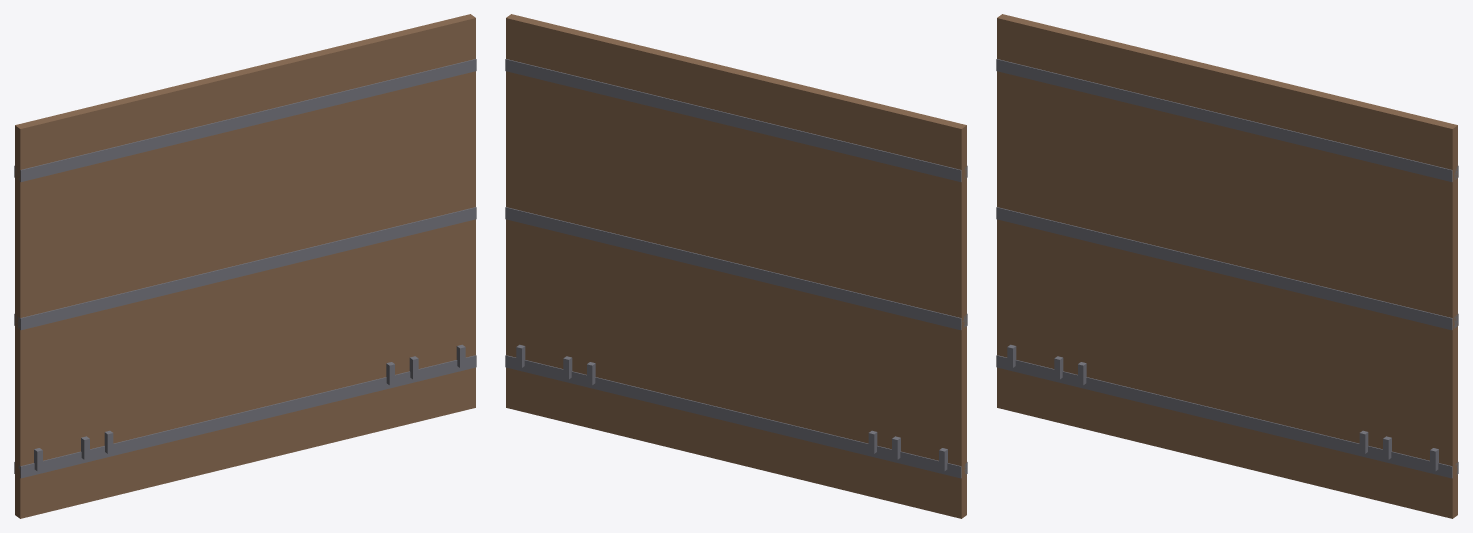
The model's file is HauntedBakery_Doors.fbx.
3 renders of one model, left to right at view 1: azimuth 30°, elevation 25°; view 2: azimuth 150°, elevation 25°; view 3: azimuth 330°, elevation 25°, orthographic.
Visible parts, largest first — view 1: DoorLeaf_HAU_W3.35_H7.92_R, DoorLeaf_HAU_W3.85_H7.92_L, DoorLeaf_HAU_W3.85_H7.92_R, DoorLeaf_HAU_W3.35_H7.92_L, DoorLeaf_HAU_W4.84_H7.92_L, DoorLeaf_HAU_W4.84_H7.92_R; view 2: DoorLeaf_HAU_W3.35_H7.92_R, DoorLeaf_HAU_W3.85_H7.92_L, DoorLeaf_HAU_W4.84_H7.92_R, DoorLeaf_HAU_W3.35_H7.92_L, DoorLeaf_HAU_W3.85_H7.92_R, DoorLeaf_HAU_W4.84_H7.92_L; view 3: DoorLeaf_HAU_W4.84_H7.92_L, DoorLeaf_HAU_W3.35_H7.92_L, DoorLeaf_HAU_W3.85_H7.92_R, DoorLeaf_HAU_W3.35_H7.92_R, DoorLeaf_HAU_W3.85_H7.92_L, DoorLeaf_HAU_W4.84_H7.92_R.
Boxes of the visible parts, left/top/right/bottom form: DoorLeaf_HAU_W3.35_H7.92_R: left=243, top=33, right=405, bottom=463; DoorLeaf_HAU_W3.85_H7.92_L: left=62, top=71, right=248, bottom=507; DoorLeaf_HAU_W3.85_H7.92_R: left=244, top=26, right=429, bottom=462; DoorLeaf_HAU_W3.35_H7.92_L: left=86, top=69, right=248, bottom=487; DoorLeaf_HAU_W4.84_H7.92_L: left=14, top=70, right=248, bottom=518; DoorLeaf_HAU_W4.84_H7.92_R: left=244, top=14, right=476, bottom=461; DoorLeaf_HAU_W3.35_H7.92_R: left=576, top=32, right=738, bottom=463; DoorLeaf_HAU_W3.85_H7.92_L: left=733, top=69, right=919, bottom=507; DoorLeaf_HAU_W4.84_H7.92_R: left=505, top=14, right=733, bottom=461; DoorLeaf_HAU_W3.35_H7.92_L: left=733, top=70, right=895, bottom=489; DoorLeaf_HAU_W3.85_H7.92_R: left=552, top=28, right=737, bottom=462; DoorLeaf_HAU_W4.84_H7.92_L: left=733, top=71, right=967, bottom=518; DoorLeaf_HAU_W4.84_H7.92_L: left=996, top=14, right=1225, bottom=462; DoorLeaf_HAU_W3.35_H7.92_L: left=1067, top=32, right=1229, bottom=463; DoorLeaf_HAU_W3.85_H7.92_R: left=1224, top=70, right=1410, bottom=507; DoorLeaf_HAU_W3.35_H7.92_R: left=1224, top=69, right=1386, bottom=488; DoorLeaf_HAU_W3.85_H7.92_L: left=1043, top=27, right=1226, bottom=462; DoorLeaf_HAU_W4.84_H7.92_R: left=1224, top=71, right=1458, bottom=518.
Bounding box in the file's own units: 9.69 × 7.92 × 0.44.
